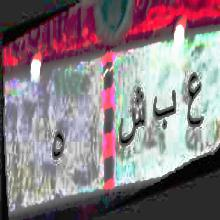5: (49, 120, 66, 167)
ain: (184, 68, 204, 137)
baa: (152, 84, 177, 135)
sheen: (118, 85, 146, 156)
